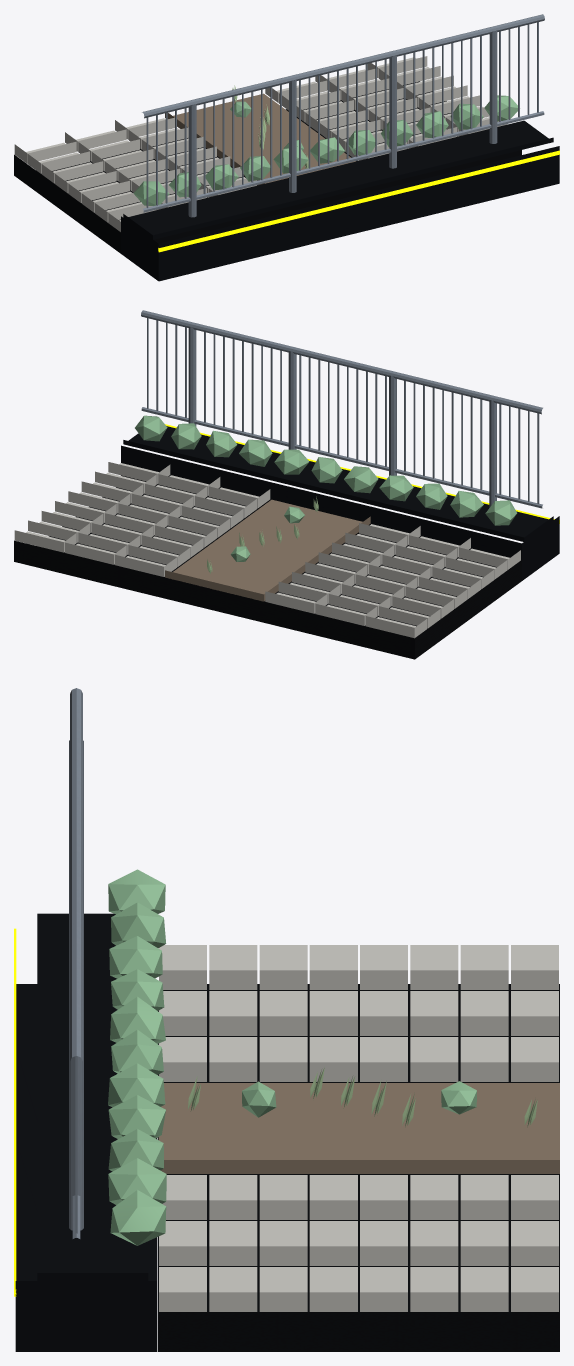
The model's file is v3_edge.glb.
3 views of the same model, one above another, from view 1: azimuth 30°, elevation 25°; view 2: azimuth 150°, elevation 25°; view 3: azimuth 270°, elevation 25° (orthographic). The views are drawn at different scales.
Parts seen in each view (by area): view 1: Coping_Kerb, Guard_Frame, Pavers_A, Pavers_B, Deck_Slab, Guard_Hedge, Grass_Strip, Coping_Line; view 2: Pavers_A, Pavers_B, Guard_Frame, Coping_Kerb, Deck_Slab, Grass_Strip, Guard_Hedge, Moss_Clumps; view 3: Pavers_B, Pavers_A, Coping_Kerb, Grass_Strip, Deck_Slab, Guard_Hedge, Guard_Frame, Moss_Clumps, Grass_Tufts, Coping_Line.
Boxes of the visible parts, box(x1,y1,x2,y2) form: Coping_Kerb: box(121, 120, 559, 281); Guard_Frame: box(142, 14, 544, 217); Pavers_A: box(14, 66, 489, 222); Pavers_B: box(28, 56, 507, 231); Deck_Slab: box(14, 81, 521, 253); Guard_Hedge: box(133, 95, 520, 205); Grass_Strip: box(165, 93, 355, 185); Coping_Line: box(158, 150, 559, 252); Pavers_A: box(28, 462, 507, 638); Pavers_B: box(14, 471, 520, 628); Guard_Frame: box(141, 310, 542, 508); Coping_Kerb: box(121, 426, 559, 580); Deck_Slab: box(14, 487, 521, 659); Grass_Strip: box(165, 499, 370, 601); Guard_Hedge: box(135, 415, 517, 525); Moss_Clumps: box(230, 506, 304, 561); Pavers_B: box(159, 945, 558, 1311); Pavers_A: box(159, 945, 558, 1311); Coping_Kerb: box(15, 913, 156, 1351); Grass_Strip: box(158, 1083, 559, 1173); Deck_Slab: box(157, 984, 559, 1351); Guard_Hedge: box(108, 869, 166, 1245); Guard_Frame: box(69, 688, 83, 1238); Moss_Clumps: box(242, 1081, 476, 1117); Grass_Tufts: box(188, 1067, 537, 1127); Coping_Line: box(14, 928, 16, 1296).
Size of what is drawn, in the model's own units: 4 by 1.5 by 2.51.
8 materials, 3 textured.
